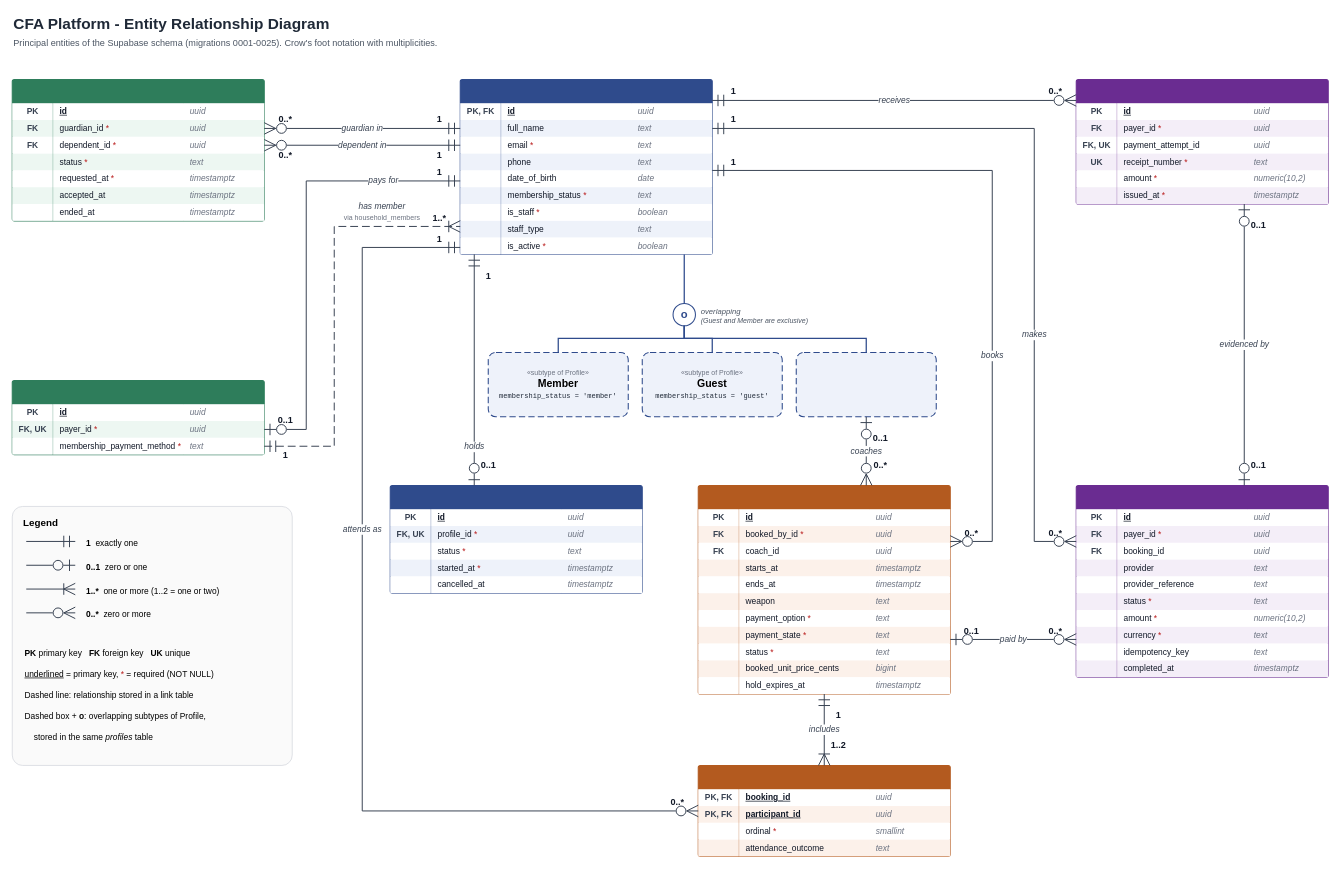
Image size: 1341x869. Some labels were removed from this diagram. The box of each missing label's shape, as (x1, y1, x2, y2) in pixels:
Booking Participant booking_participants: (697, 765, 950, 857)
Family Link family_links: (11, 79, 264, 221)
Household households: (11, 380, 264, 455)
Lesson Booking bookings: (697, 485, 950, 694)
Membership memberships: (389, 485, 642, 593)
Payment payment_attempts: (1075, 485, 1328, 677)
Profile profiles: (459, 79, 712, 255)
Receipt receipts: (1075, 79, 1328, 204)
«subtype of Profile» Coach is_staff AND staff_type = 'coach': (795, 352, 936, 417)
